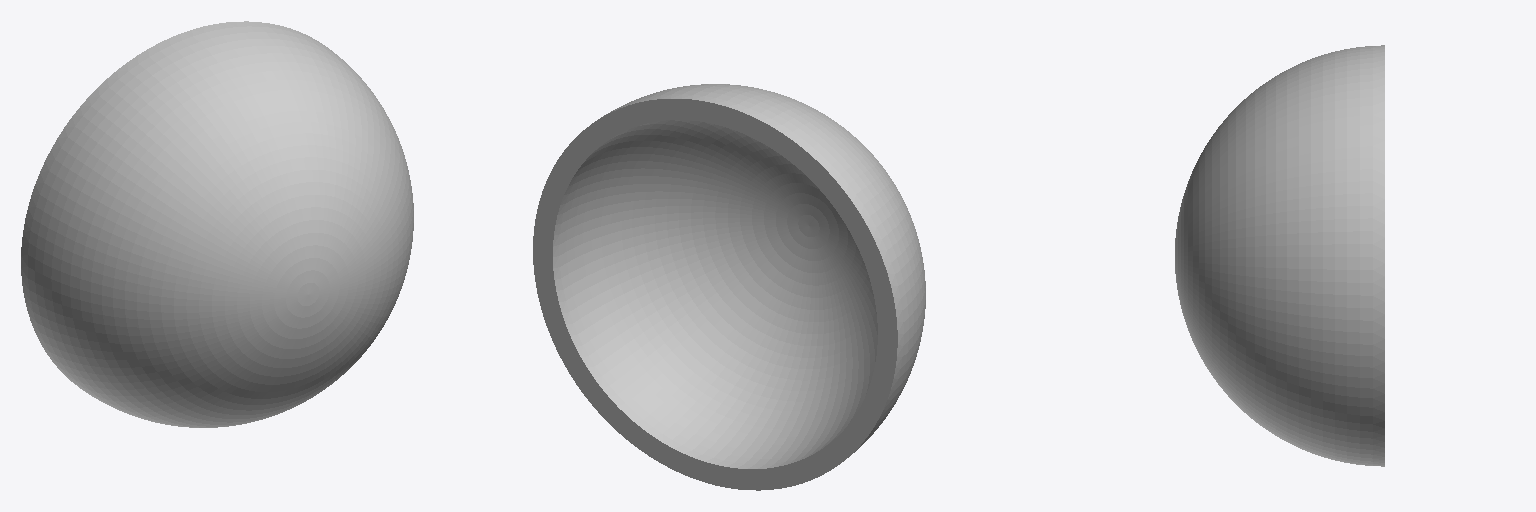
The model's file is ShipGlass.obj.
3 renders of one model, left to right at view 1: azimuth 30°, elevation 25°; view 2: azimuth 150°, elevation 25°; view 3: azimuth 270°, elevation 25°, orthographic.
Parts seen in each view (by area): view 1: ShipGlass; view 2: ShipGlass; view 3: ShipGlass.
Part boxes in pixels (bbox=[...]): ShipGlass: bbox=[21, 21, 413, 427]; ShipGlass: bbox=[533, 84, 925, 490]; ShipGlass: bbox=[1175, 45, 1384, 466].
Bounding box in the file's own units: 55.12 × 55.14 × 27.57.